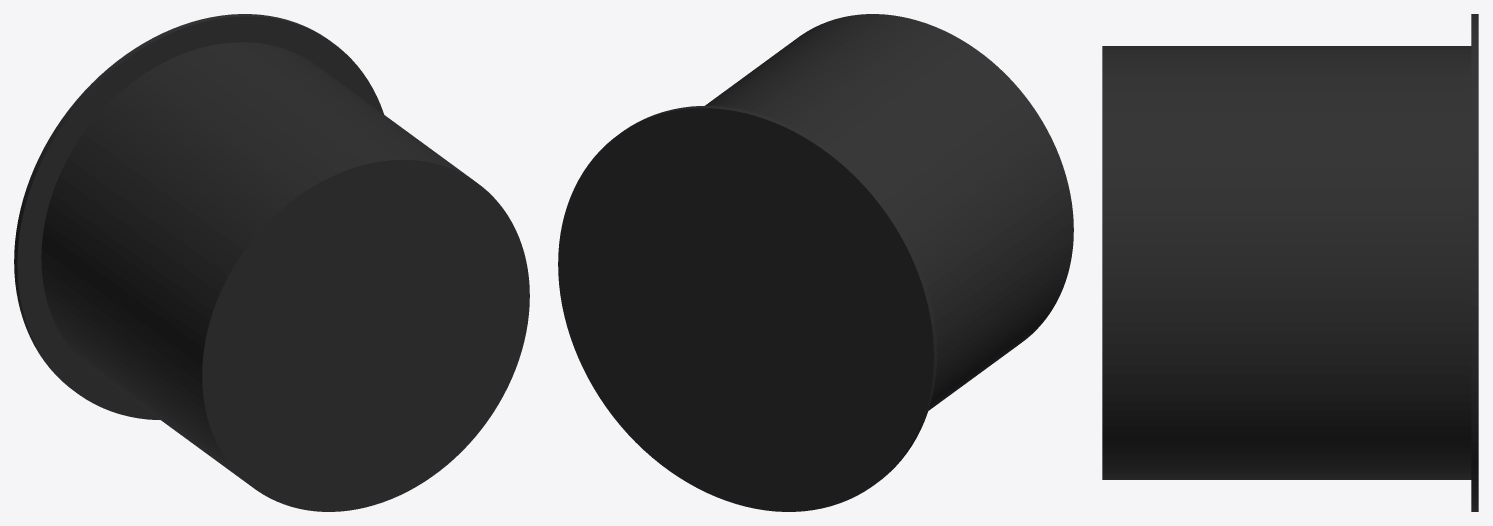
Rendered from head1.obj.
The picture shows the model from 3 angles, left to right: view 1: azimuth 30°, elevation 25°; view 2: azimuth 150°, elevation 25°; view 3: azimuth 270°, elevation 25°; orthographic projection. The views are drawn at different scales.
Parts seen in each view (by area): view 1: head1_002-mesh; view 2: head1_002-mesh; view 3: head1_002-mesh.
Part boxes in pixels (x1,y1,x2,y2): head1_002-mesh: (14, 14, 529, 511); head1_002-mesh: (558, 14, 1073, 511); head1_002-mesh: (1102, 14, 1478, 511).
Size of the model in its own units: 0.086 by 0.086 by 0.065.
1 material, 1 textured.
